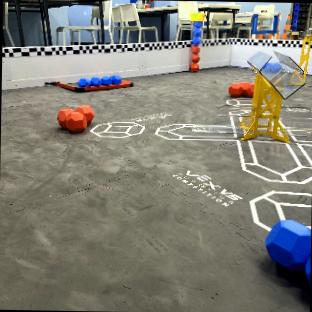V5_BLUE: (266, 220, 310, 282), (77, 75, 122, 86), (191, 22, 200, 44), (262, 63, 282, 72)
V5_RED: (57, 106, 93, 132), (229, 81, 253, 96), (190, 44, 199, 70)
